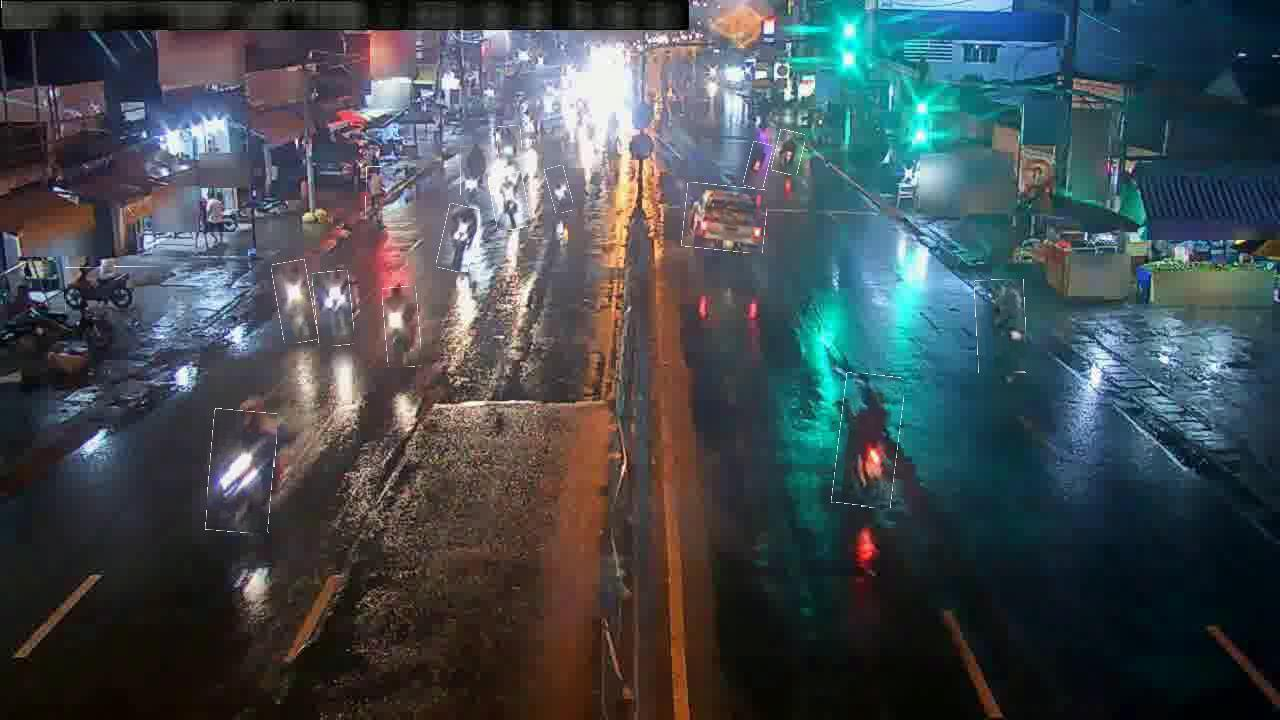container: (683, 184, 767, 252)
motorbike: (835, 374, 902, 508), (208, 410, 276, 533), (975, 280, 1026, 374), (65, 267, 161, 312), (275, 260, 315, 343), (314, 271, 354, 347), (384, 286, 421, 368), (440, 205, 478, 272), (491, 173, 529, 230), (366, 167, 397, 224), (460, 146, 489, 196), (774, 131, 804, 175), (547, 166, 572, 214), (746, 142, 770, 189), (497, 126, 523, 167)
